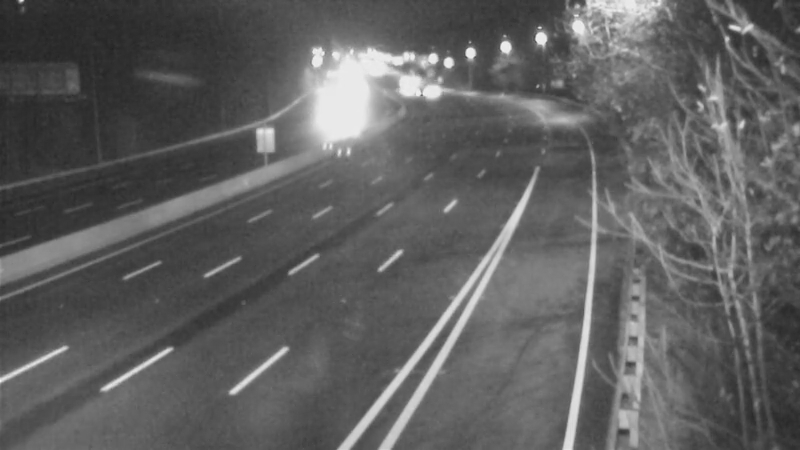vehicle: (405, 65, 455, 115), (391, 63, 441, 113)
